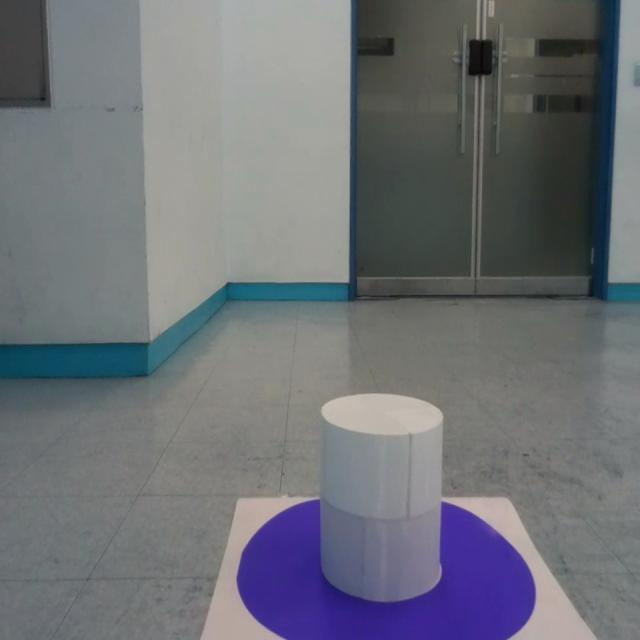cylinder: (318, 393, 444, 602)
